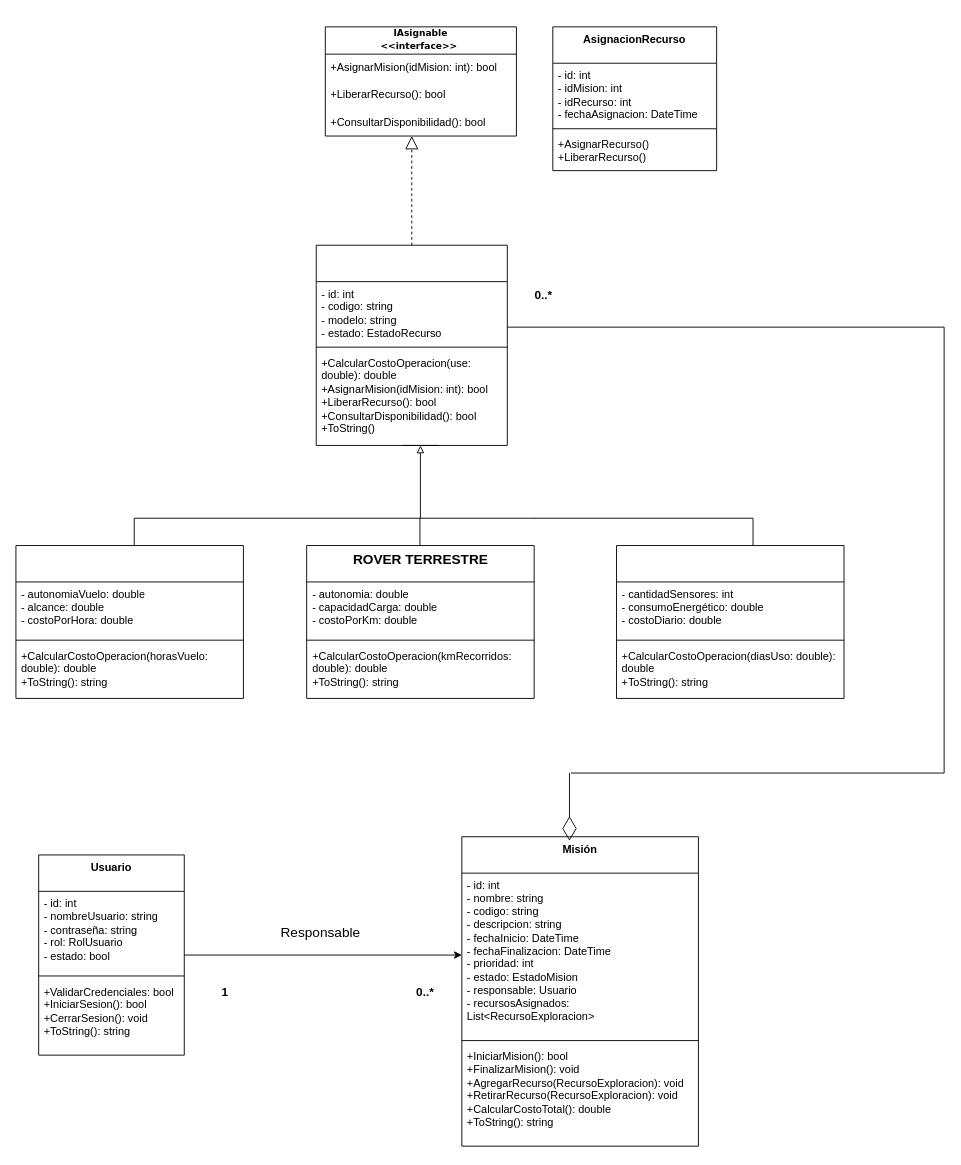
Some shapes in this 961 by 1165 pixel diagram are drawn without their labels. The shapes that lost their labels are listed below. From the top down, each one's box as (x1, y1, x2, y2) in pixels, then its label:
(315, 244, 507, 445): RecursoExploración <<abstract>>
(15, 545, 243, 698): DRON
(616, 545, 844, 698): ESTACIÓN SENSORES
